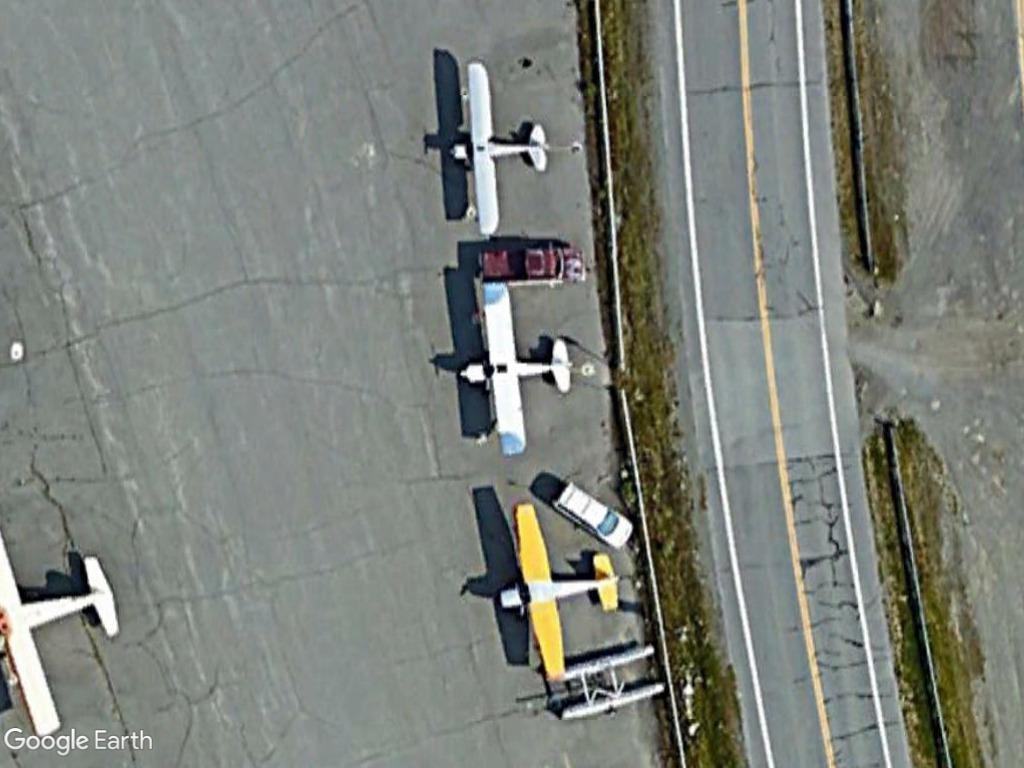trainer: (449, 279, 584, 460), (494, 496, 623, 684), (442, 54, 555, 239)
van: (550, 479, 634, 551)
